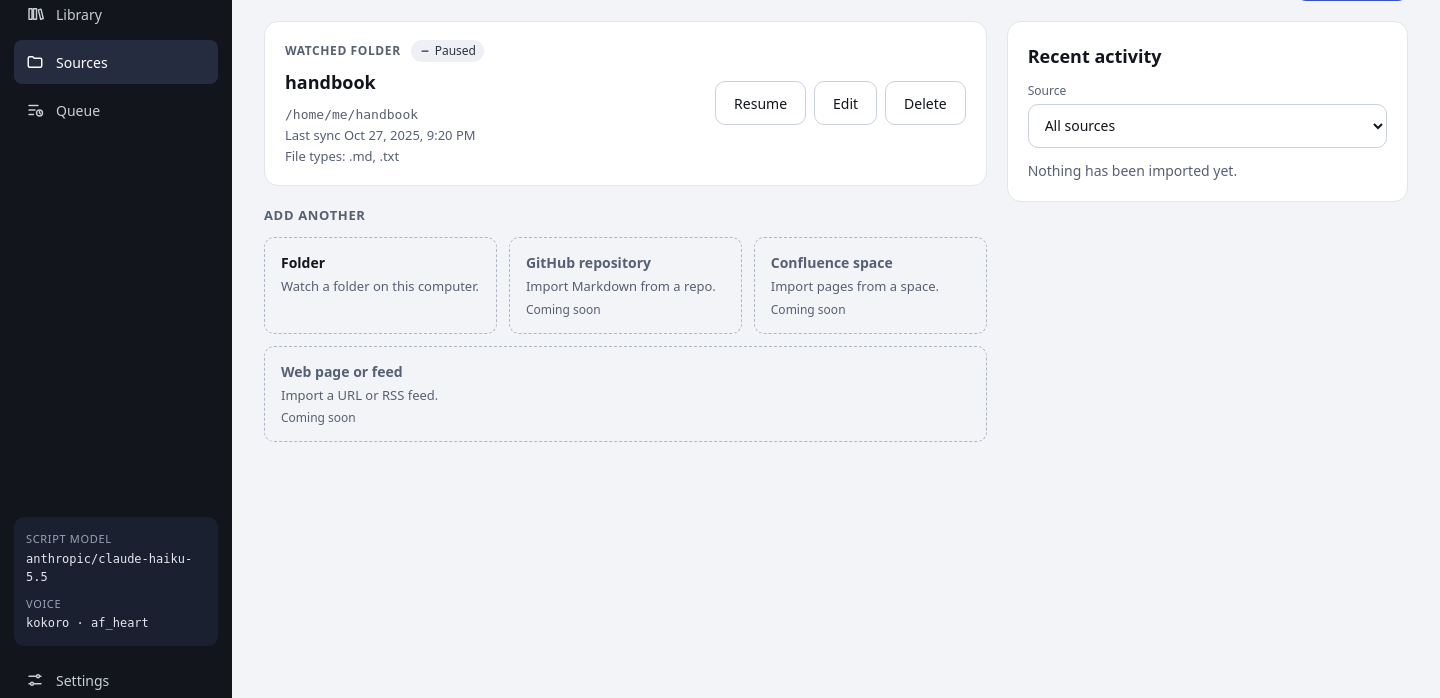
Test case: a source's excluded files › steps back a page when the last file on a page is re-imported
The width and height of the screenshot is (1440, 698).
Click the button "Edit". click: [846, 103]
box: top-left (814, 81), bottom-right (877, 125)
(page scrolled)
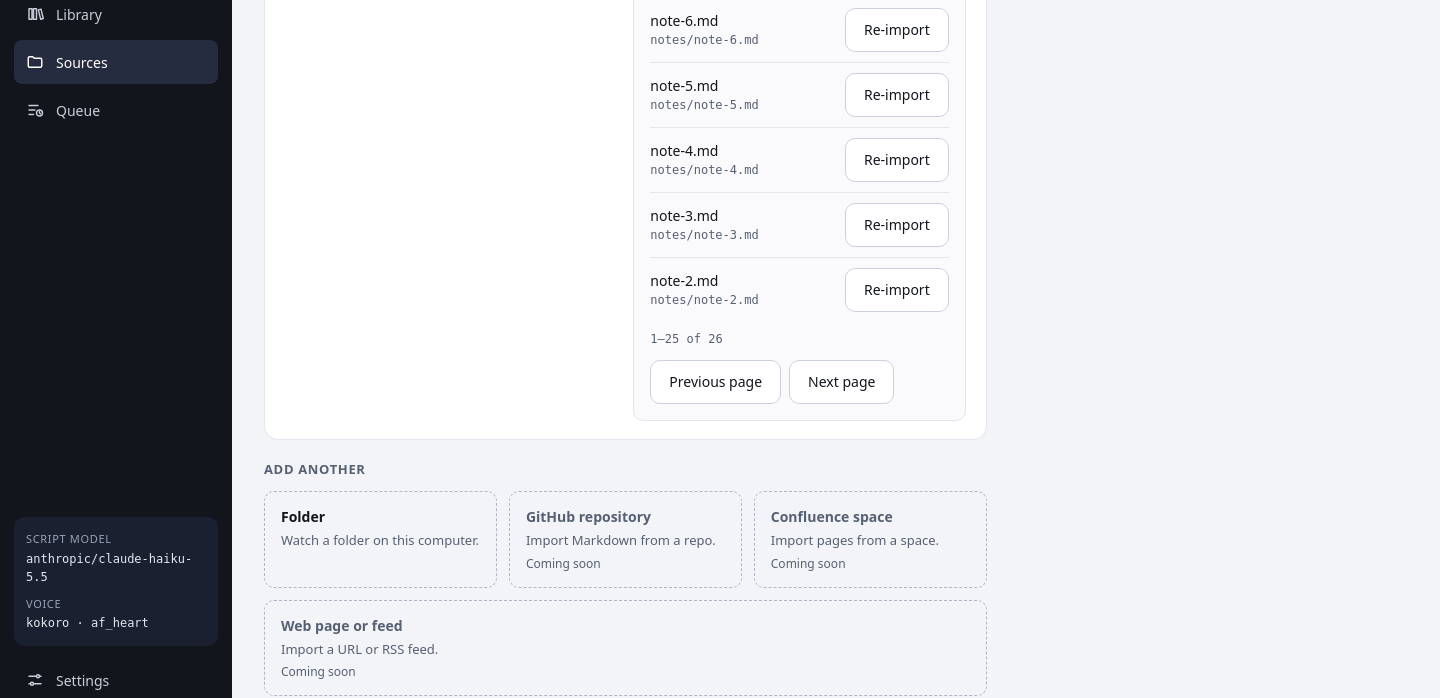
Check: the text "1–25 of 26" is shown, box top-left (650, 330), bottom-right (723, 348)
Click the button "Next page". click: [842, 382]
box: top-left (789, 360), bottom-right (894, 404)
(page scrolled)
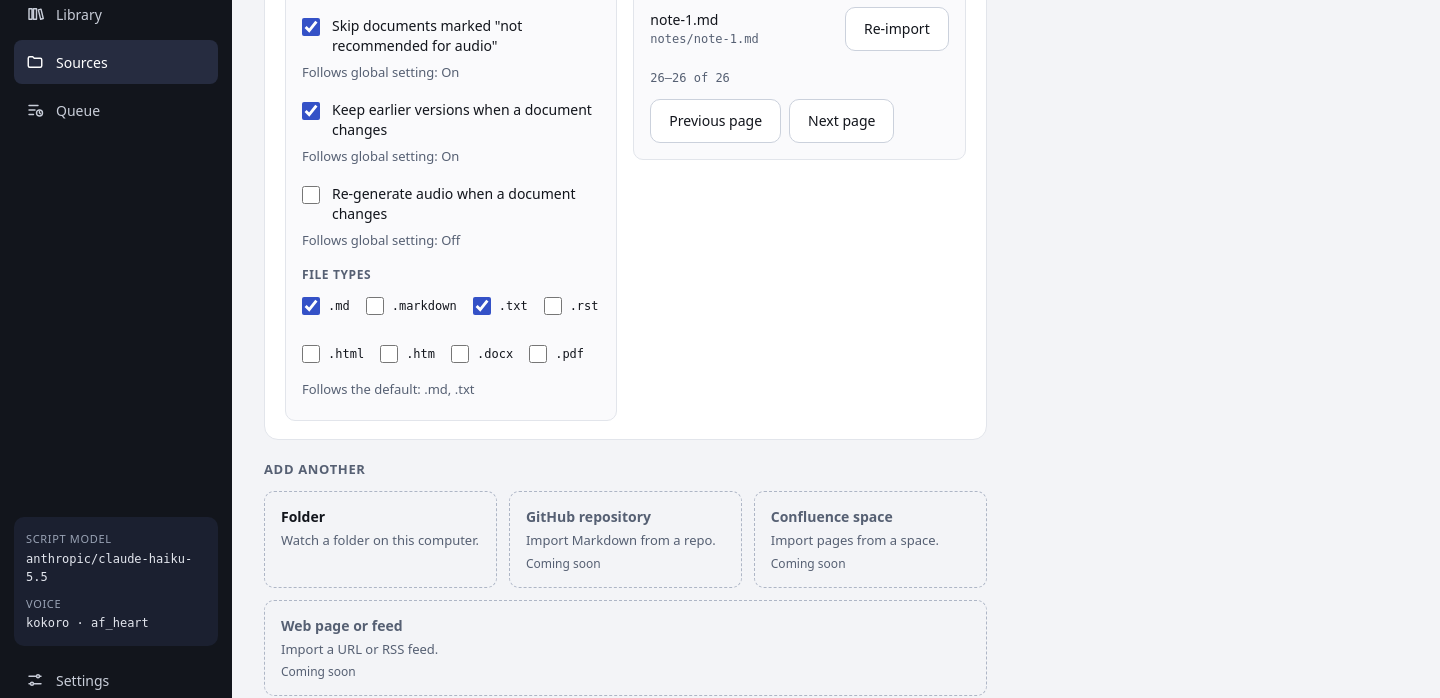
Click the button named "Re-import note-1.md". click: [897, 29]
box: top-left (845, 7), bottom-right (949, 51)
(page scrolled)
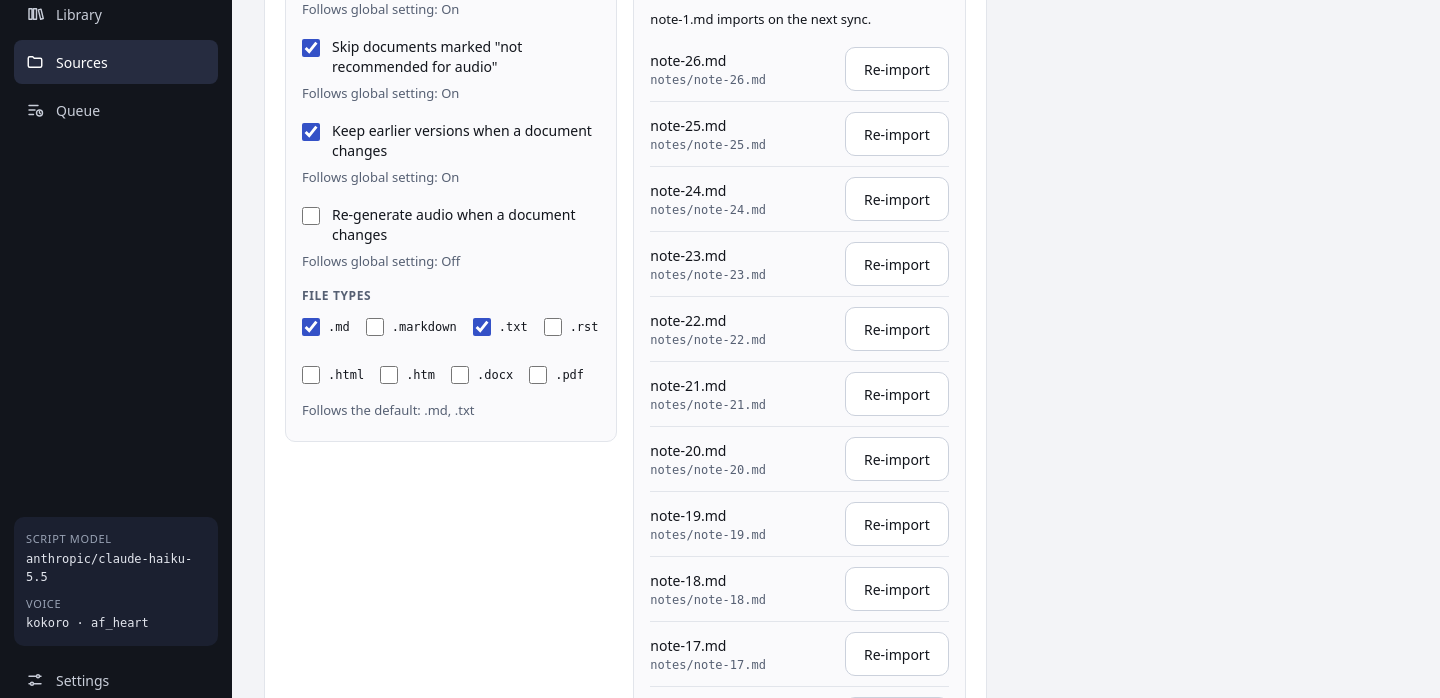
Check: the button named "Re-import note-26.md" is shown, box top-left (845, 48), bottom-right (949, 92)
Check: the navigation bar "Pages" is gone
